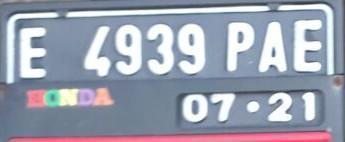3: (140, 22, 174, 76)
4: (73, 22, 122, 80)
9: (87, 22, 144, 79), (169, 21, 213, 76)
A: (255, 20, 293, 74)
E: (16, 23, 58, 83), (292, 20, 332, 76)
P: (218, 20, 259, 74)
Plate: (10, 4, 331, 141)
